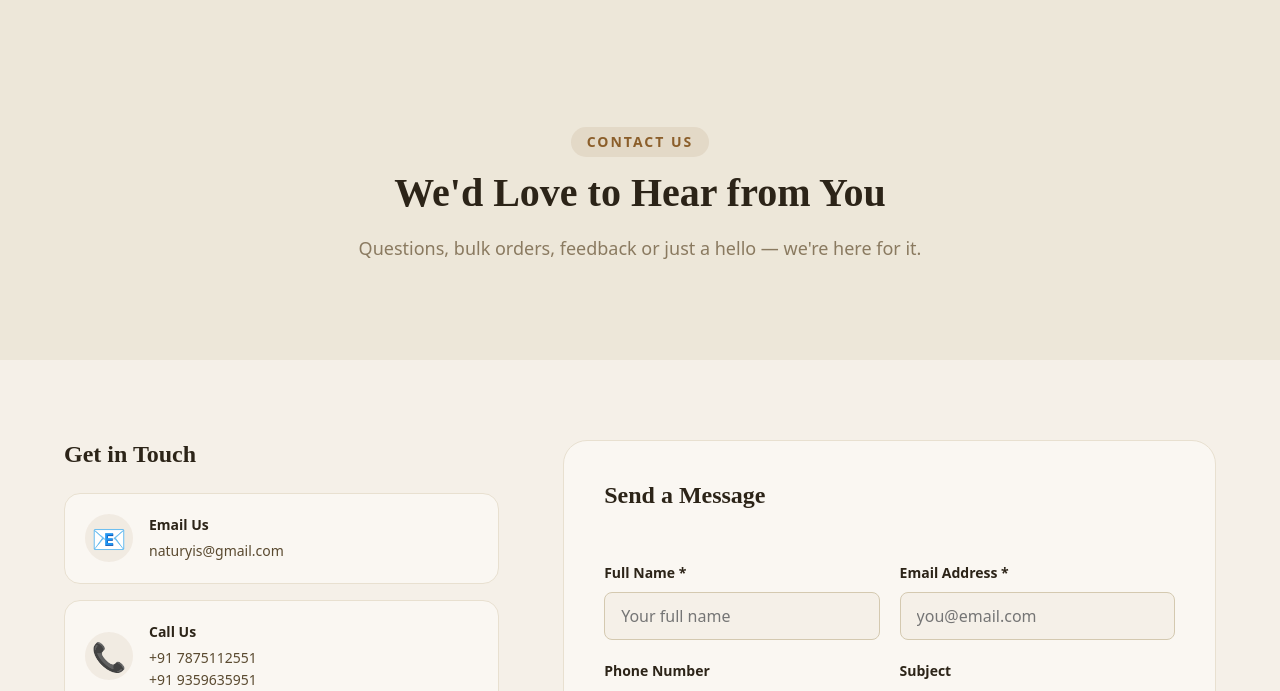
it: Contact Page › allows sending another message after success
In the field labelled "Full Name *": [742, 616] box [604, 592, 880, 640], type "User"
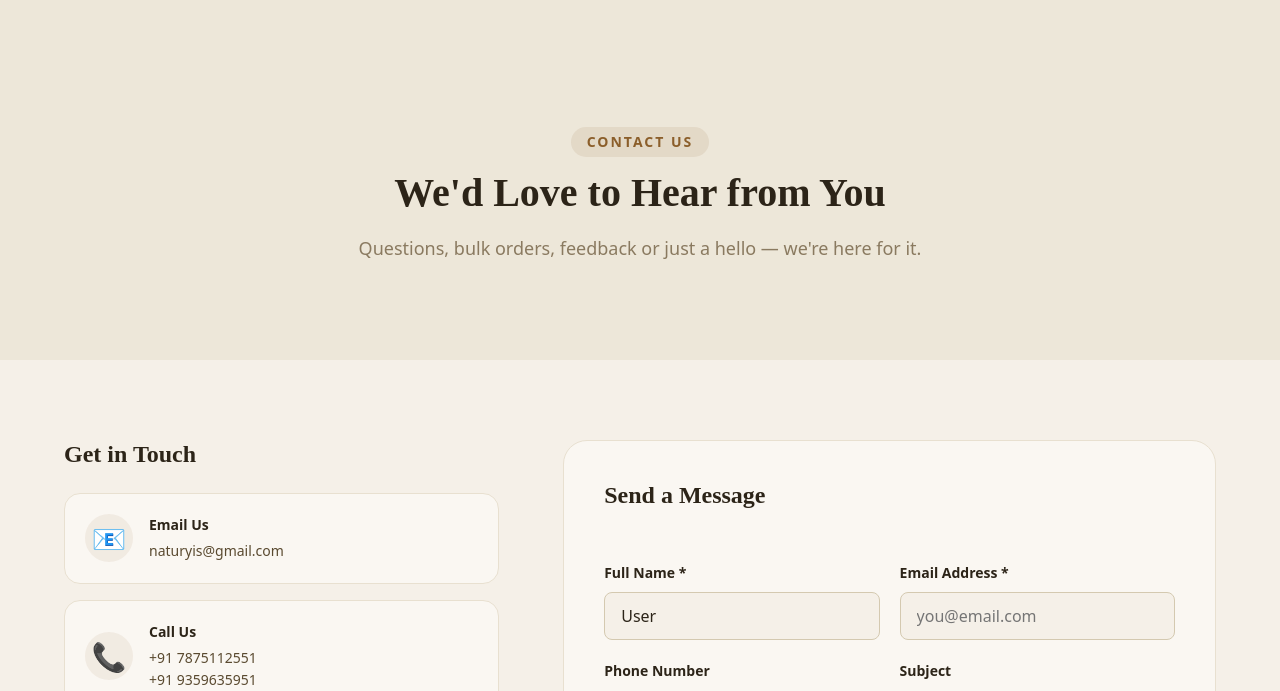
In the field labelled "Email Address *": [1037, 616] box [900, 592, 1175, 640], type "u@e.com"
(page scrolled)
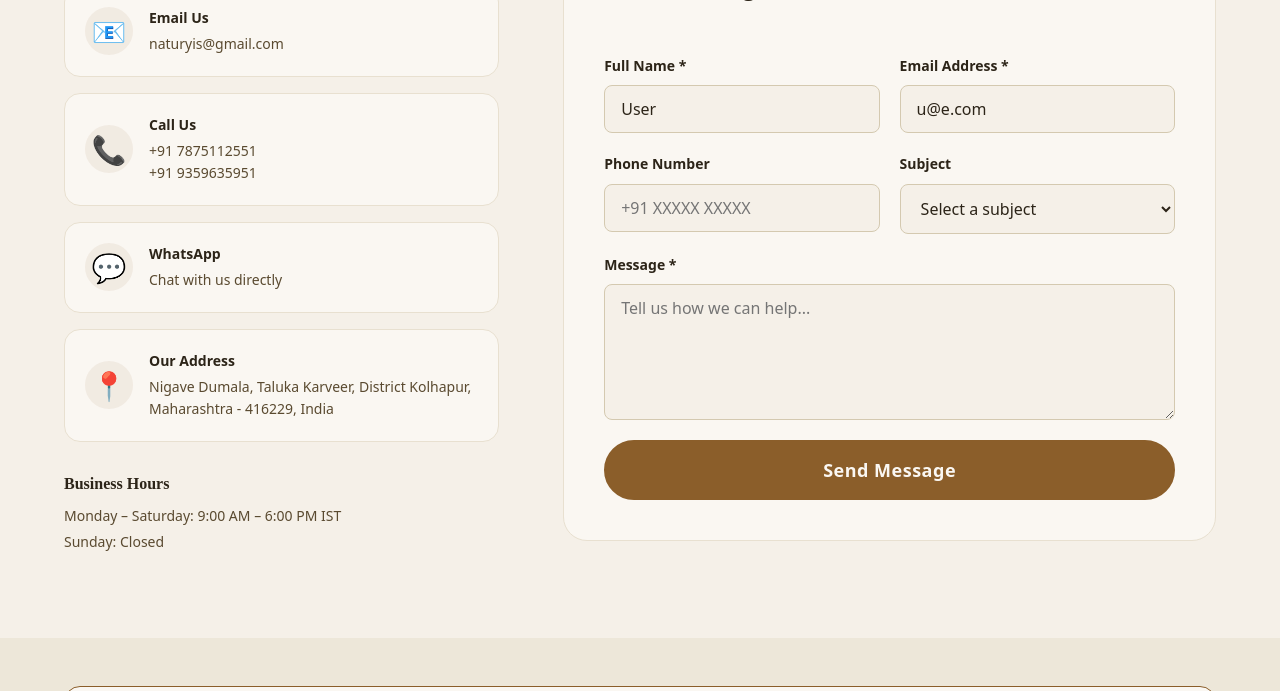
In the text box labelled "Message *": [890, 352] box [604, 284, 1175, 420], type "Hi"
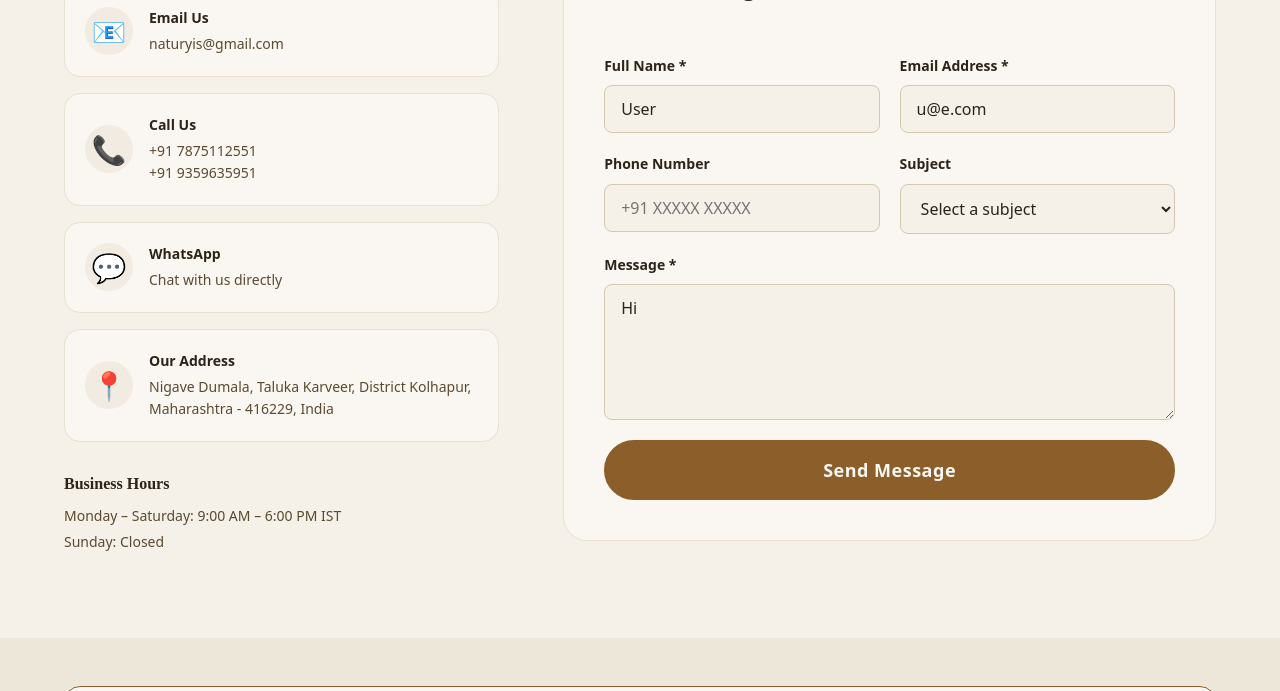
Click the button "Send Message": [890, 470] box [604, 440, 1175, 500]
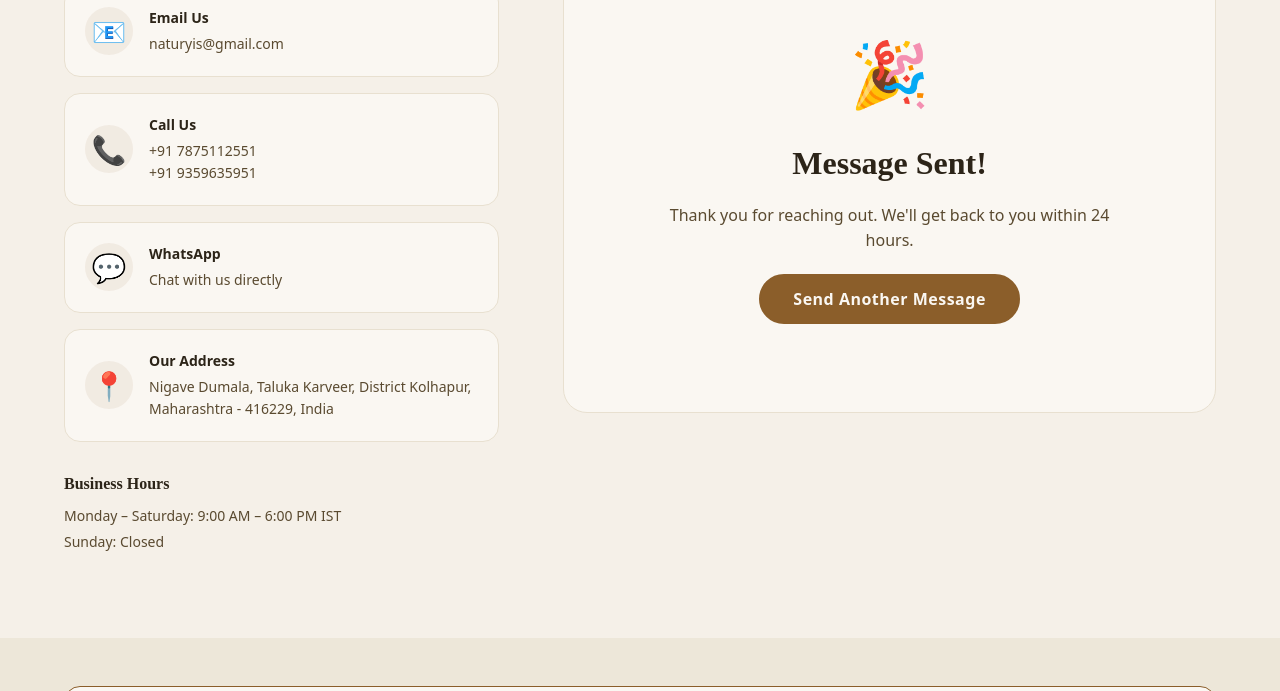
Click the button "Send Another Message": [890, 299] box [759, 274, 1020, 324]
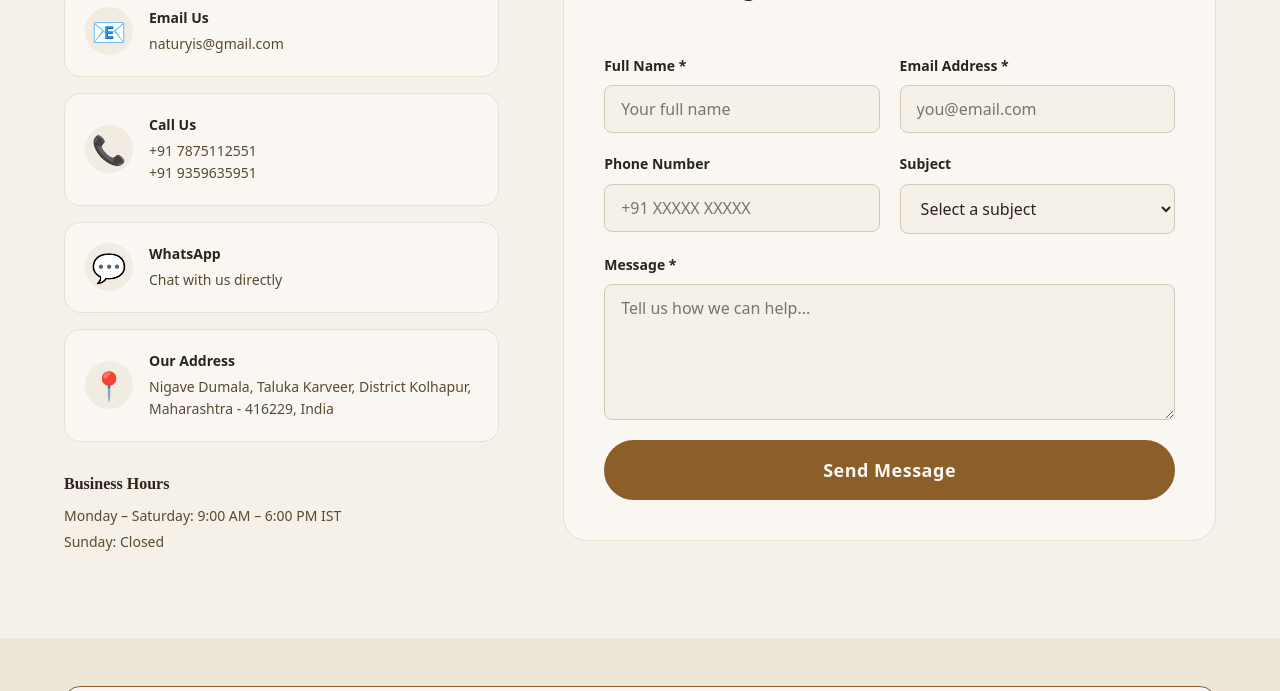
Check: the button "Send Message" is shown, box [604, 440, 1175, 500]
